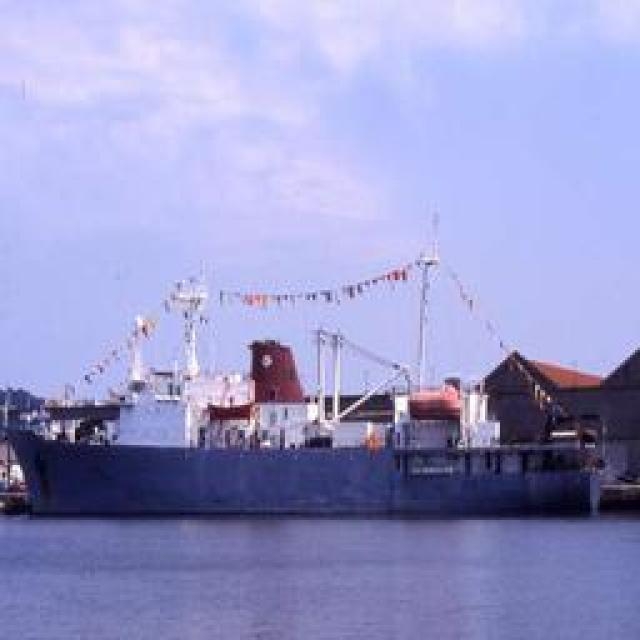CIV_Ship: (9, 225, 594, 508)
